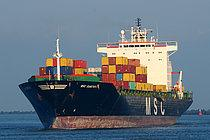Ship: (16, 16, 197, 134)
